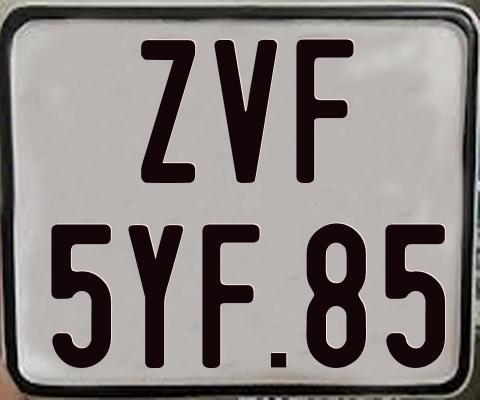5: (382, 221, 448, 367), (51, 224, 116, 368)
8: (303, 221, 369, 369)
F: (293, 36, 357, 186), (202, 222, 262, 367)
V: (211, 37, 276, 180)
Y: (126, 225, 183, 371)
Z: (141, 37, 199, 183)
